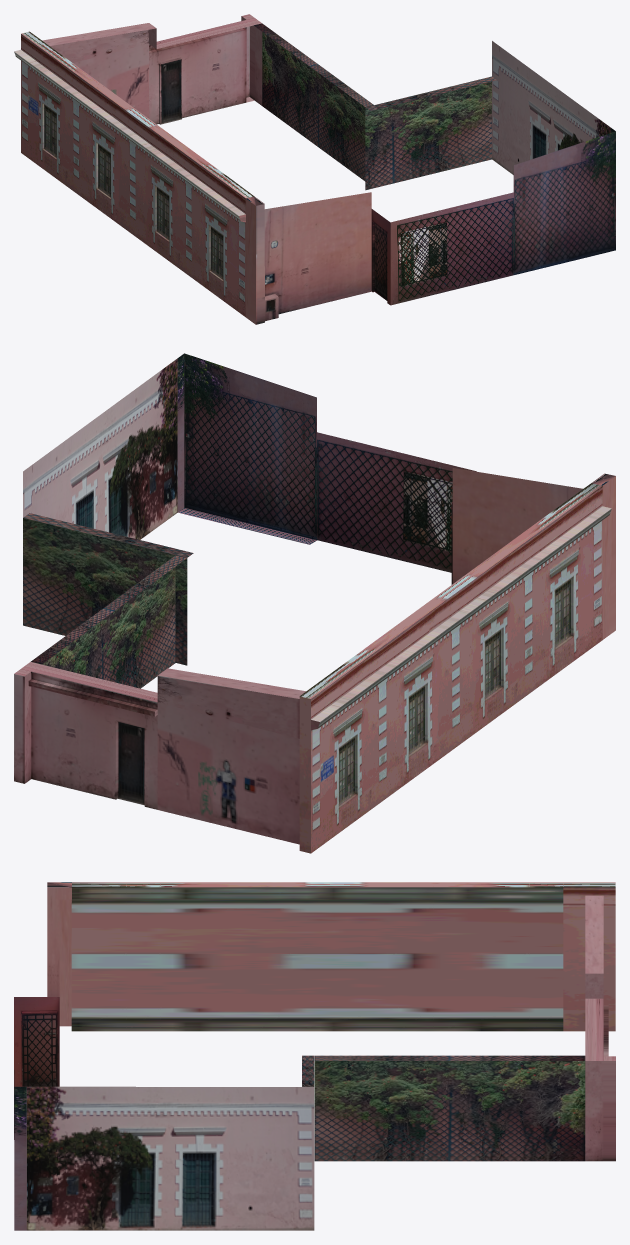
Rendered from Building_Achaval_PlazaMedio02.fbx.
3 views of the same model, one above another, from view 1: azimuth 30°, elevation 25°; view 2: azimuth 150°, elevation 25°; view 3: azimuth 270°, elevation 25° (orthographic). The views are drawn at different scales.
Visible parts, largest first — view 1: pared_Achaval.003, pared_Achaval, pared_Achaval.005, pared_Achaval.001, pared_Achaval.006, Doors, door.002, door.001; view 2: pared_Achaval, pared_Achaval.003, pared_Achaval.005, Doors, pared_Achaval.001, pared_Achaval.006, door.002; view 3: pared_Achaval, Doors, pared_Achaval.006, pared_Achaval.003, pared_Achaval.005, door.001.
Boxes of the visible parts, x1=… form: pared_Achaval.003: x1=245, y1=128, x2=615, y2=324; pared_Achaval: x1=14, y1=31, x2=254, y2=316; pared_Achaval.005: x1=42, y1=14, x2=262, y2=124; pared_Achaval.001: x1=365, y1=76, x2=496, y2=190; pared_Achaval.006: x1=254, y1=23, x2=373, y2=181; Doors: x1=492, y1=41, x2=610, y2=174; door.002: x1=160, y1=59, x2=181, y2=124; door.001: x1=374, y1=223, x2=387, y2=300; pared_Achaval: x1=299, y1=483, x2=611, y2=853; pared_Achaval.003: x1=177, y1=353, x2=615, y2=639; pared_Achaval.005: x1=14, y1=662, x2=305, y2=844; Doors: x1=23, y1=358, x2=177, y2=539; pared_Achaval.001: x1=23, y1=513, x2=193, y2=665; pared_Achaval.006: x1=31, y1=555, x2=186, y2=688; door.002: x1=117, y1=722, x2=144, y2=805; pared_Achaval: x1=71, y1=882, x2=615, y2=1031; Doors: x1=26, y1=1086, x2=314, y2=1230; pared_Achaval.006: x1=314, y1=1055, x2=585, y2=1161; pared_Achaval.003: x1=14, y1=882, x2=71, y2=1230; pared_Achaval.005: x1=585, y1=895, x2=615, y2=1161; door.001: x1=21, y1=1012, x2=56, y2=1086.
Bounding box in the file's own units: 40.1 × 12.91 × 48.91.
